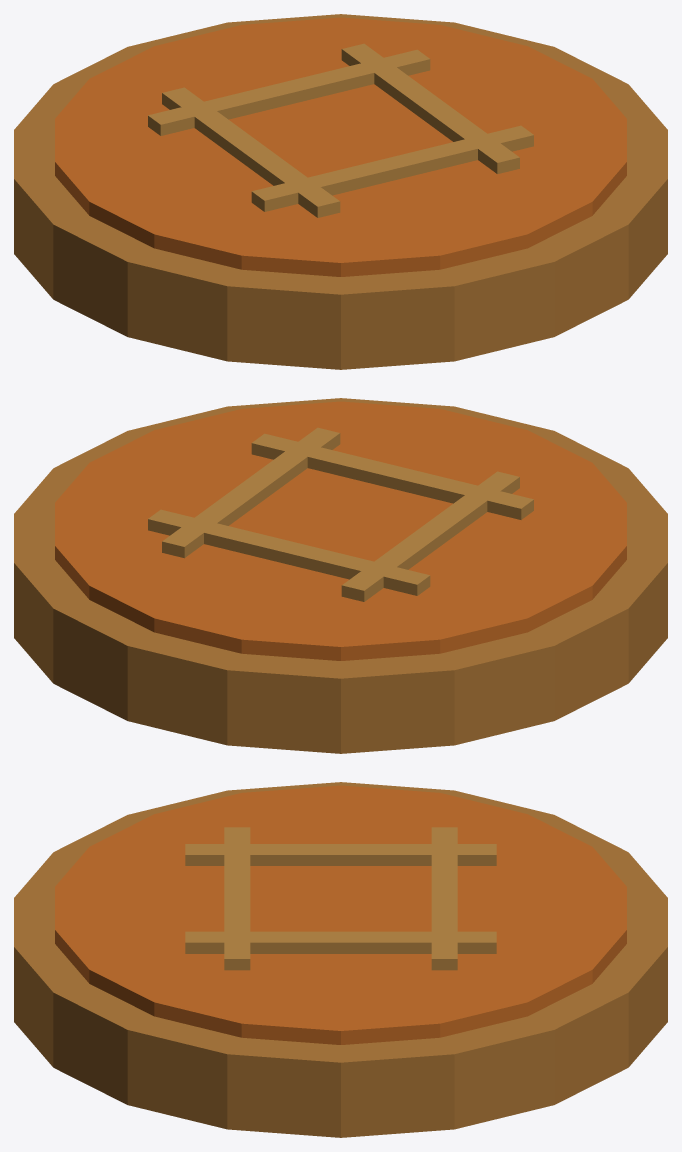
Rendered from Harvest_Pie.glb.
3 views of the same model, one above another, from view 1: azimuth 30°, elevation 25°; view 2: azimuth 150°, elevation 25°; view 3: azimuth 270°, elevation 25° (orthographic).
Parts seen in each view (by area): view 1: _I_HarvestPie; view 2: _I_HarvestPie; view 3: _I_HarvestPie.
Boxes of the visible parts, x1,y1,x2,y2 form: _I_HarvestPie: [14, 14, 667, 369]; _I_HarvestPie: [14, 398, 667, 753]; _I_HarvestPie: [14, 782, 667, 1137].
Size of the model in its own units: 0.64 by 0.111 by 0.6303.
